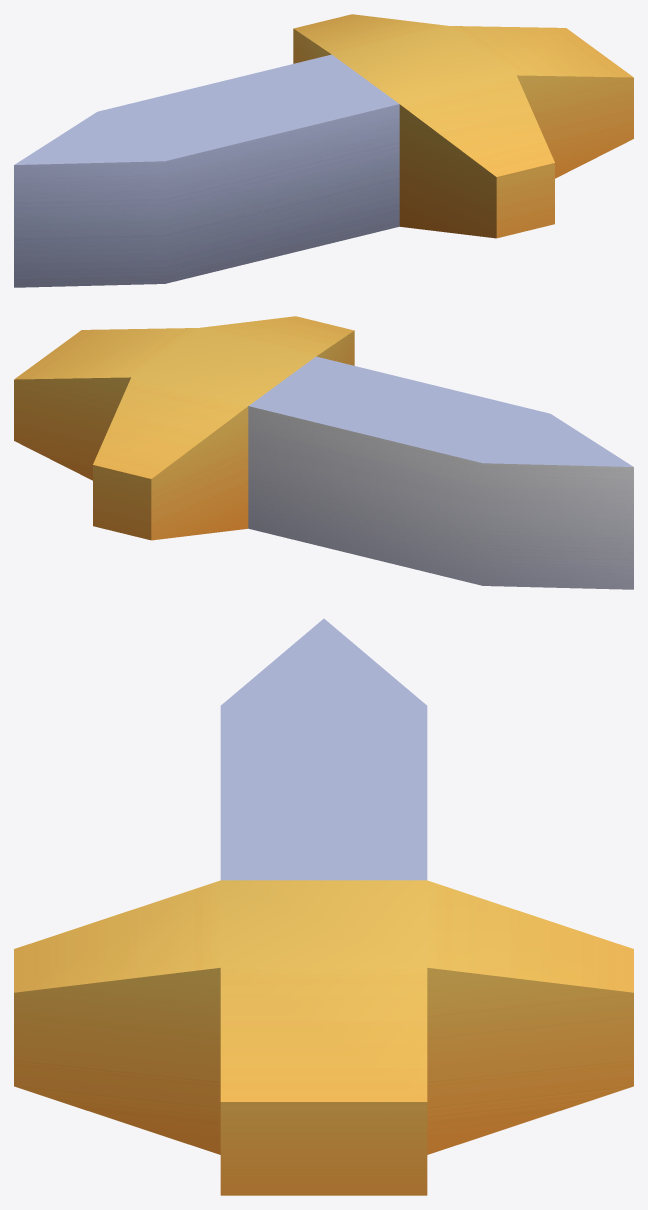
The model's file is kenney-prototype-kit--weapon_sword.glb.
The picture shows the model from 3 angles, top to bottom: view 1: azimuth 30°, elevation 25°; view 2: azimuth 150°, elevation 25°; view 3: azimuth 270°, elevation 25°; orthographic projection. The views are drawn at different scales.
Visible parts, largest first — view 1: weapon-sword; view 2: weapon-sword; view 3: weapon-sword.
Boxes of the visible parts, x1,y1,x2,y2 form: weapon-sword: [14, 14, 633, 287]; weapon-sword: [14, 316, 633, 589]; weapon-sword: [14, 618, 633, 1195].
Bounding box in the file's own units: 0.5 × 0.1 × 0.3.
Materials: 1 (1 with a texture image).
